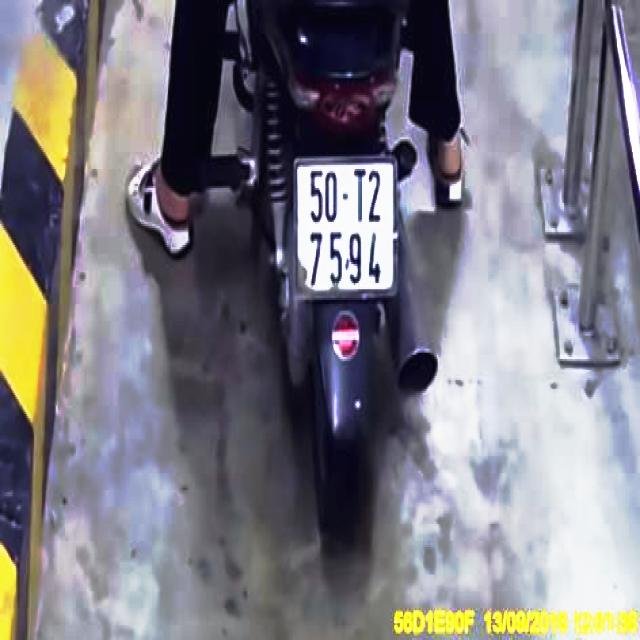license_plate: (297, 162, 399, 296)
